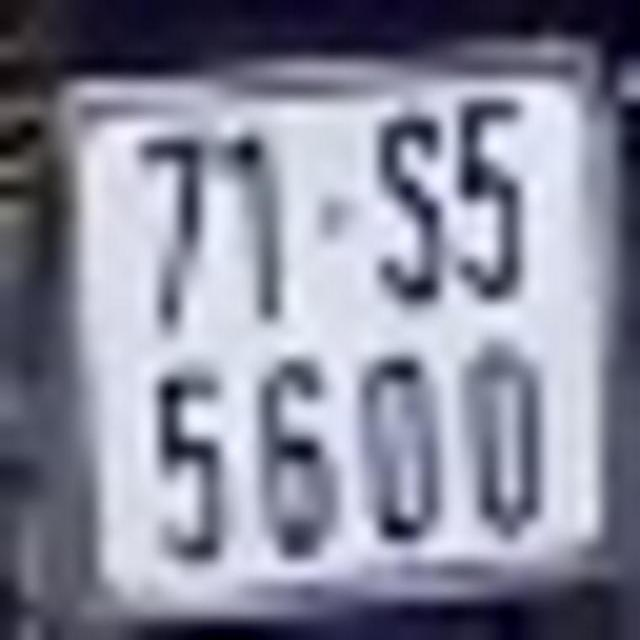0: (354, 350, 452, 540), (464, 346, 548, 533)
1: (230, 136, 288, 316)
5: (157, 366, 236, 564), (460, 95, 524, 298)
6: (261, 349, 343, 556)
7: (136, 127, 215, 336)
S: (376, 120, 444, 306)
